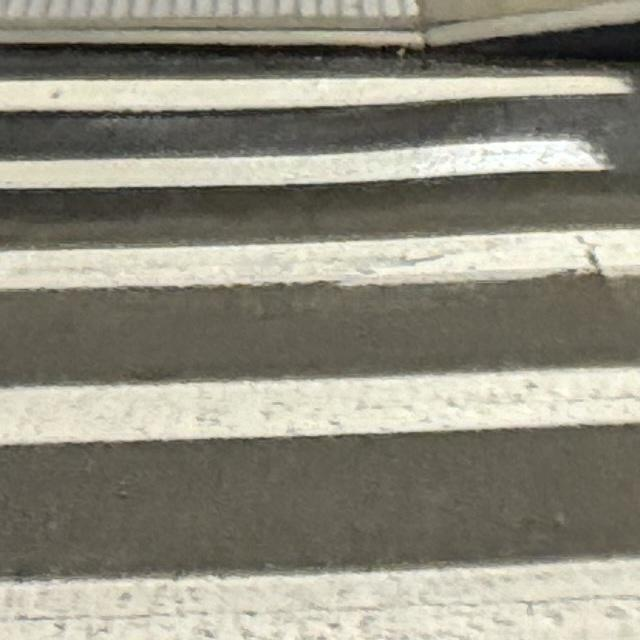curb: (0, 0, 639, 64)
